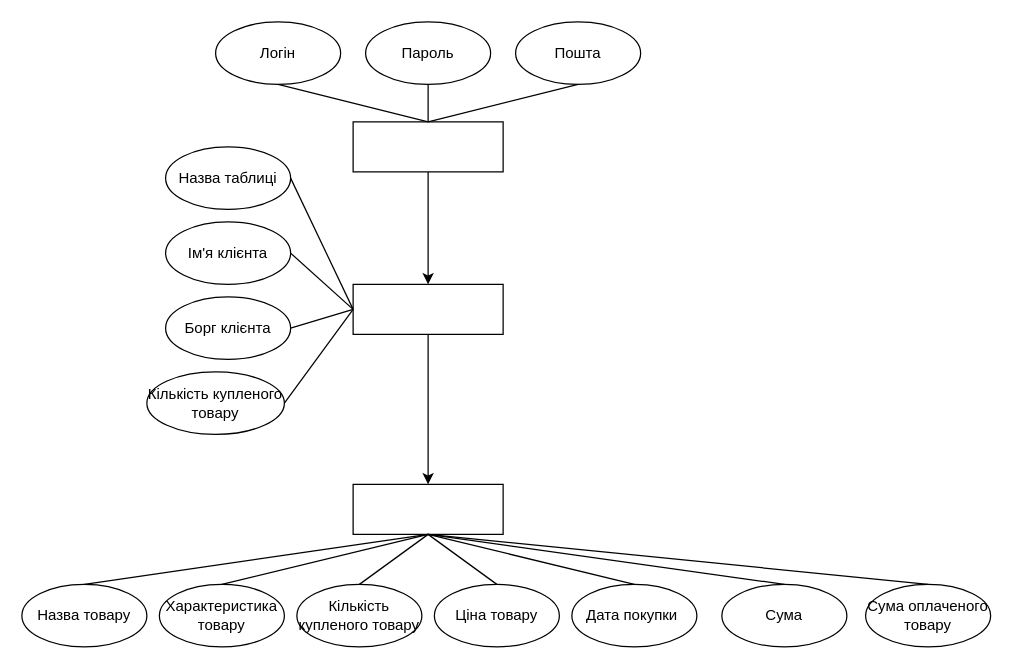
Some shapes in this 1013 by 669 pixel diagram are drawn without their labels. The centre of each missing label's shape, as x and y in pixels:
Головна таблиця: the point at 427,308
Користувач: the point at 427,146
Таблиця клієнта: the point at 427,508
